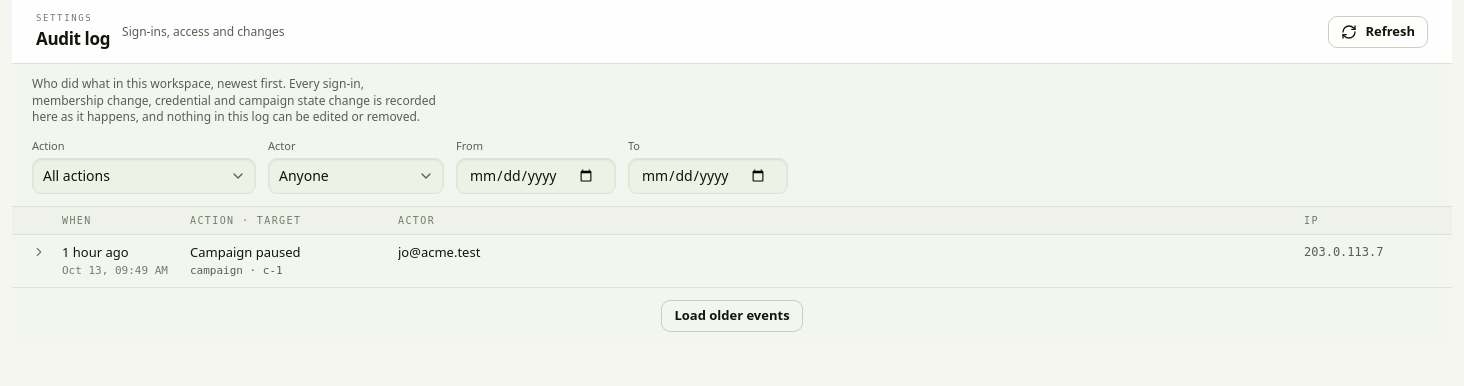
Test case: changing a filter drops the loaded pages and the cursor
This screenshot has width=1464, height=386.
Click the button "Load older events" at (732, 316), box [661,300,803,332]
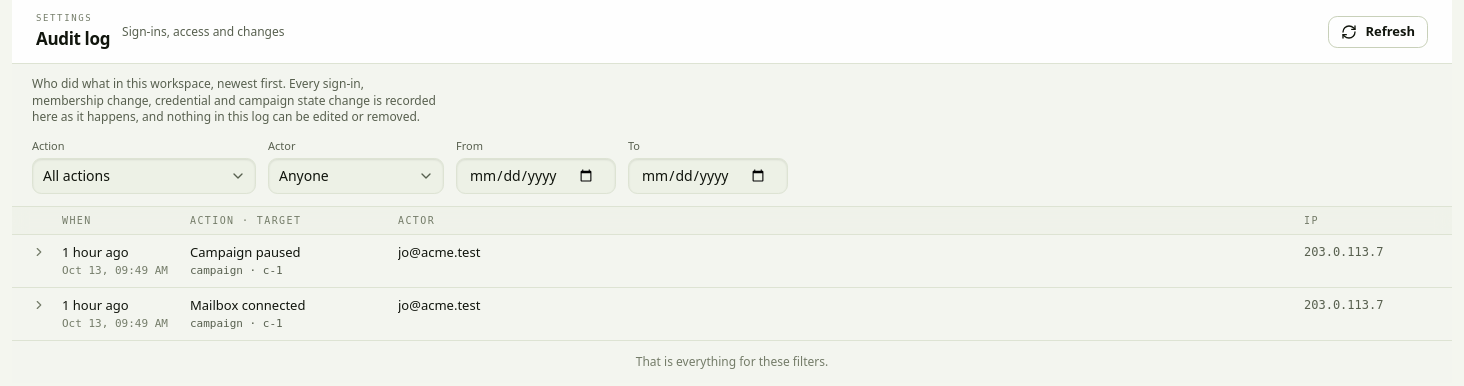
Now the text "Mailbox connected" is shown, box [190,296,305,316]
Select "Sign-in: all events" in the dropdown labelled "Action" at (144, 176), box [32,158,256,194]
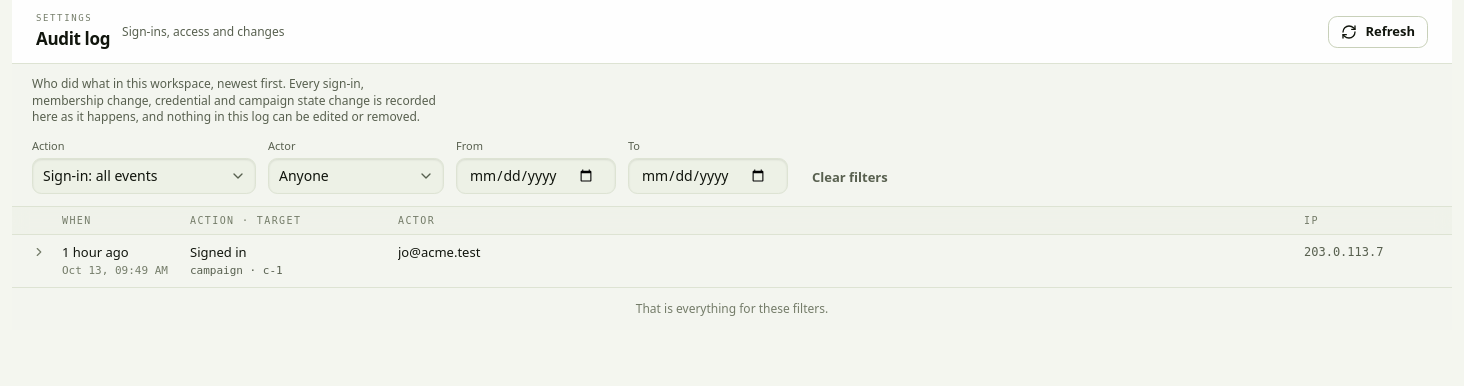
Now the text "Signed in" is shown, box [190,243,247,262]
Now the button "Mailbox connected" is gone
Now the button "Campaign paused" is gone
